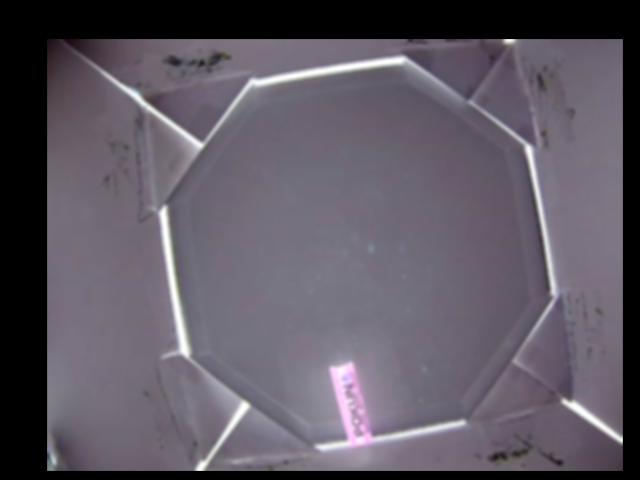Battery: (330, 360, 371, 447)
